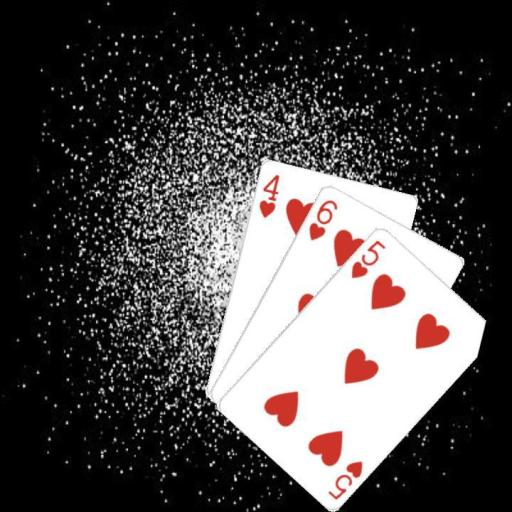4H: (255, 171, 281, 219)
5H: (348, 236, 388, 280), (325, 457, 365, 501)
6H: (305, 196, 339, 242)
